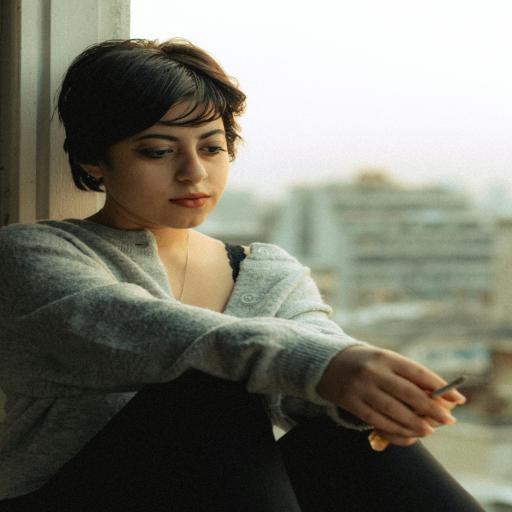terdeteksi pegang rokok: (358, 310, 494, 470)
